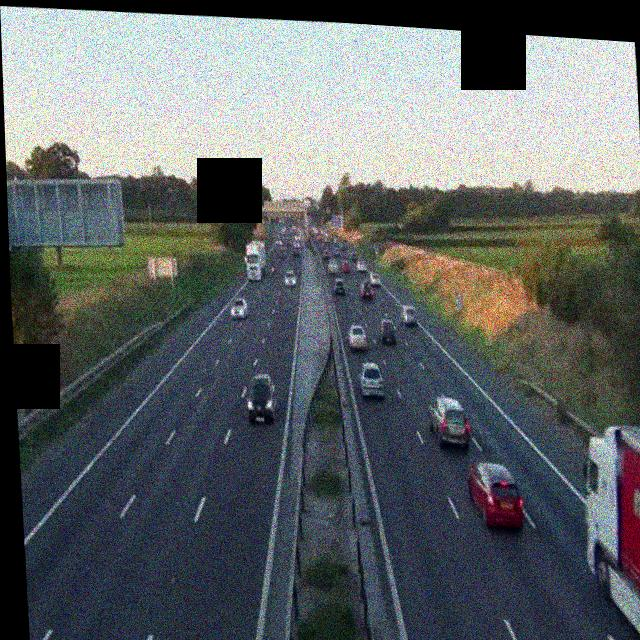car: (469, 460, 524, 529), (429, 395, 470, 450), (245, 372, 277, 423), (357, 362, 384, 398), (347, 323, 366, 350), (378, 318, 397, 344), (230, 296, 247, 321), (401, 304, 418, 326), (359, 279, 373, 298), (333, 277, 346, 296), (369, 269, 381, 286), (284, 270, 296, 287), (327, 259, 336, 274), (264, 262, 273, 275), (356, 259, 365, 272), (294, 244, 302, 257), (322, 250, 330, 263)
truck: (579, 422, 640, 640), (245, 240, 266, 281)
